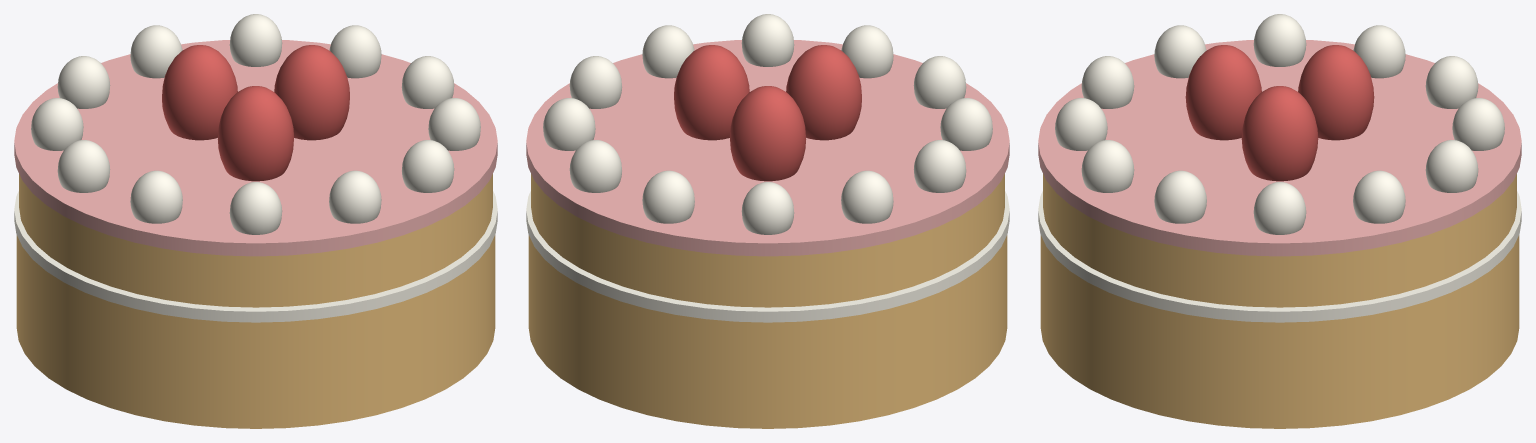
The model's file is icing.glb.
The picture shows the model from 3 angles, left to right: view 1: azimuth 30°, elevation 25°; view 2: azimuth 150°, elevation 25°; view 3: azimuth 270°, elevation 25°; orthographic projection.
Visible parts, largest first — view 1: 밝은 구움색, 분홍 아이싱, 아이싱, 딸기; view 2: 밝은 구움색, 분홍 아이싱, 아이싱, 딸기; view 3: 밝은 구움색, 분홍 아이싱, 아이싱, 딸기.
Boxes of the visible parts, x1,y1,x2,y2 form: 밝은 구움색: (16, 174, 495, 428); 분홍 아이싱: (14, 40, 497, 256); 아이싱: (14, 14, 497, 322); 딸기: (162, 45, 349, 181); 밝은 구움색: (528, 174, 1007, 428); 분홍 아이싱: (526, 40, 1009, 256); 아이싱: (526, 14, 1009, 322); 딸기: (674, 45, 861, 181); 밝은 구움색: (1040, 174, 1519, 428); 분홍 아이싱: (1038, 40, 1521, 256); 아이싱: (1038, 14, 1521, 322); 딸기: (1185, 45, 1374, 181).
Bounding box in the file's own units: 2.02 × 1.23 × 2.02.
